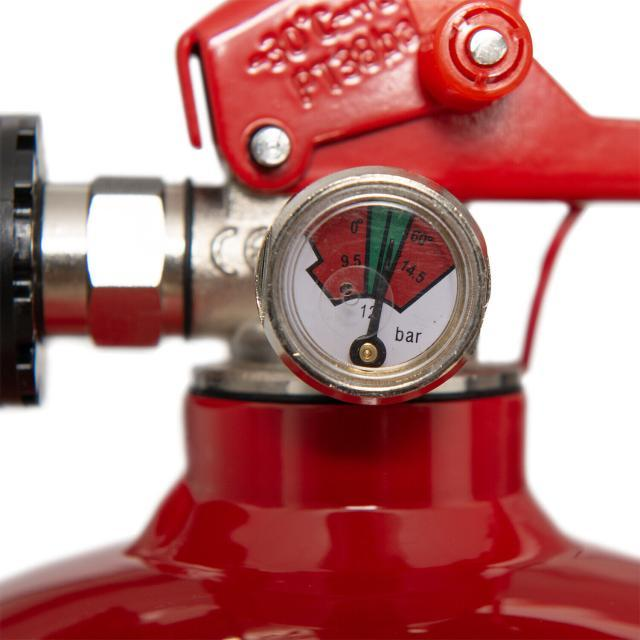pressure gauge: (257, 167, 489, 403)
